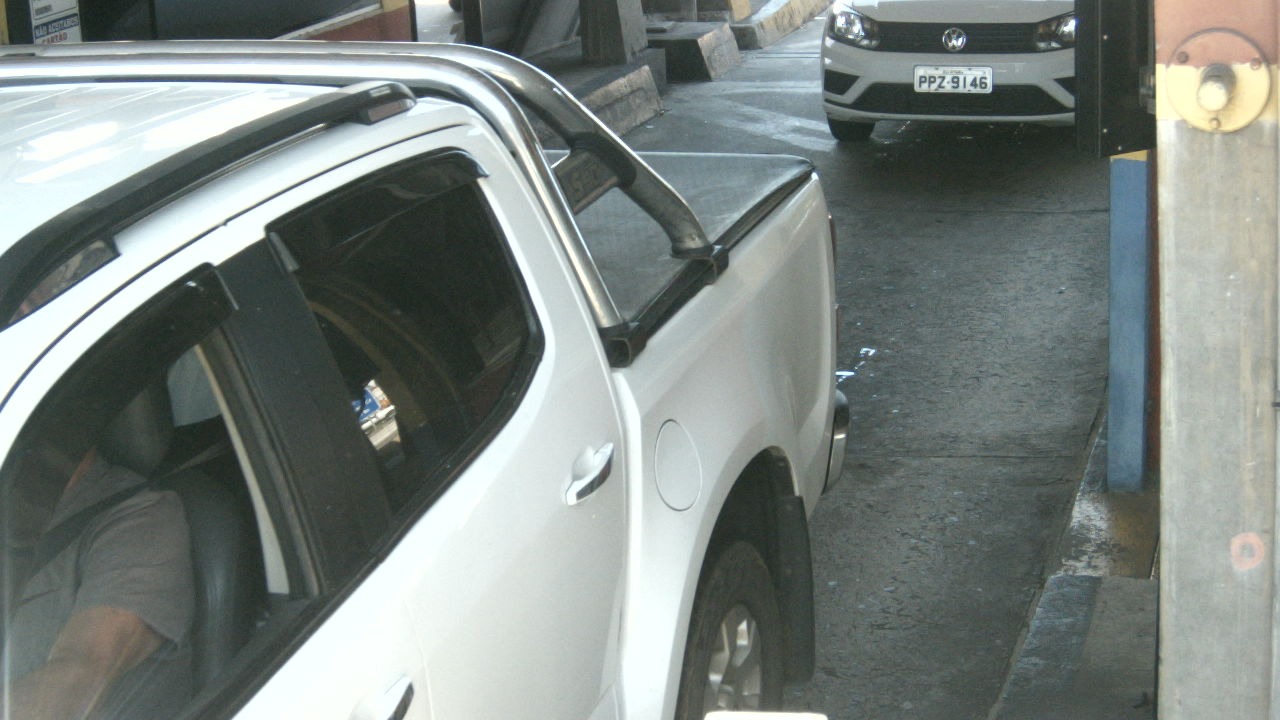placa: (914, 65, 992, 93)
